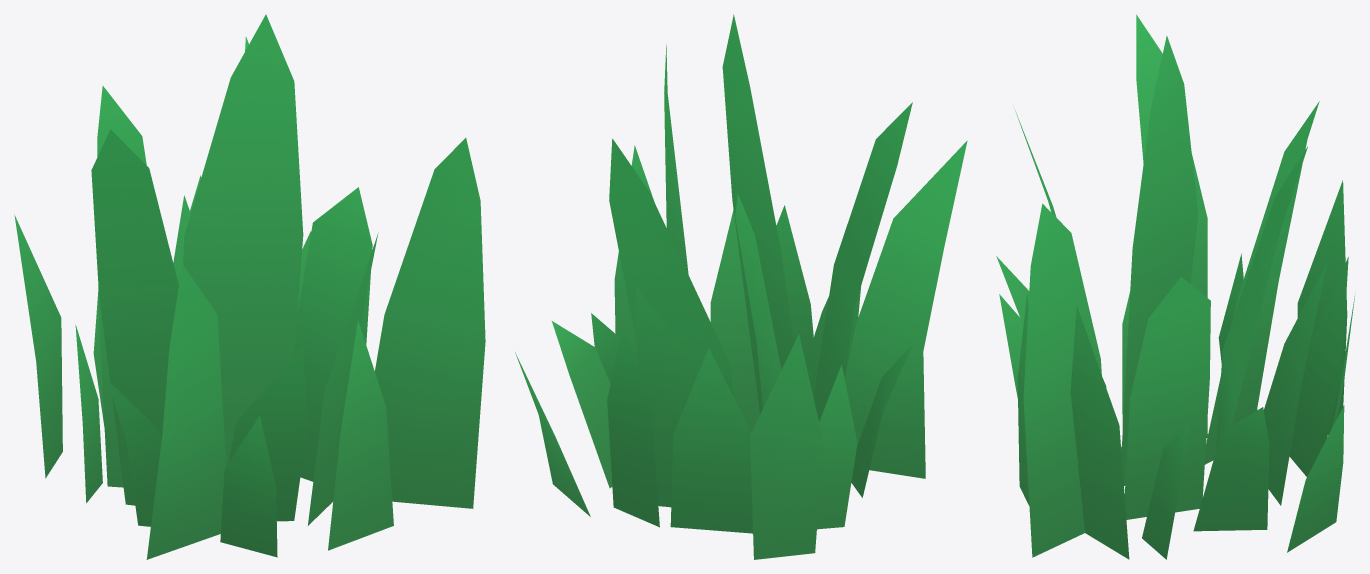
The model's file is Forest_Grass_02.gltf.
3 renders of one model, left to right at view 1: azimuth 30°, elevation 25°; view 2: azimuth 150°, elevation 25°; view 3: azimuth 270°, elevation 25°, orthographic. The views are drawn at different scales.
Visible parts, largest first — view 1: Forest_Grass_02; view 2: Forest_Grass_02; view 3: Forest_Grass_02.
Boxes of the visible parts, x1,y1,x2,y2 form: Forest_Grass_02: [14, 14, 485, 559]; Forest_Grass_02: [515, 14, 967, 559]; Forest_Grass_02: [996, 14, 1355, 559].
Size of the model in its own units: 0.2303 by 0.3238 by 0.2302.
1 material, 1 textured.
